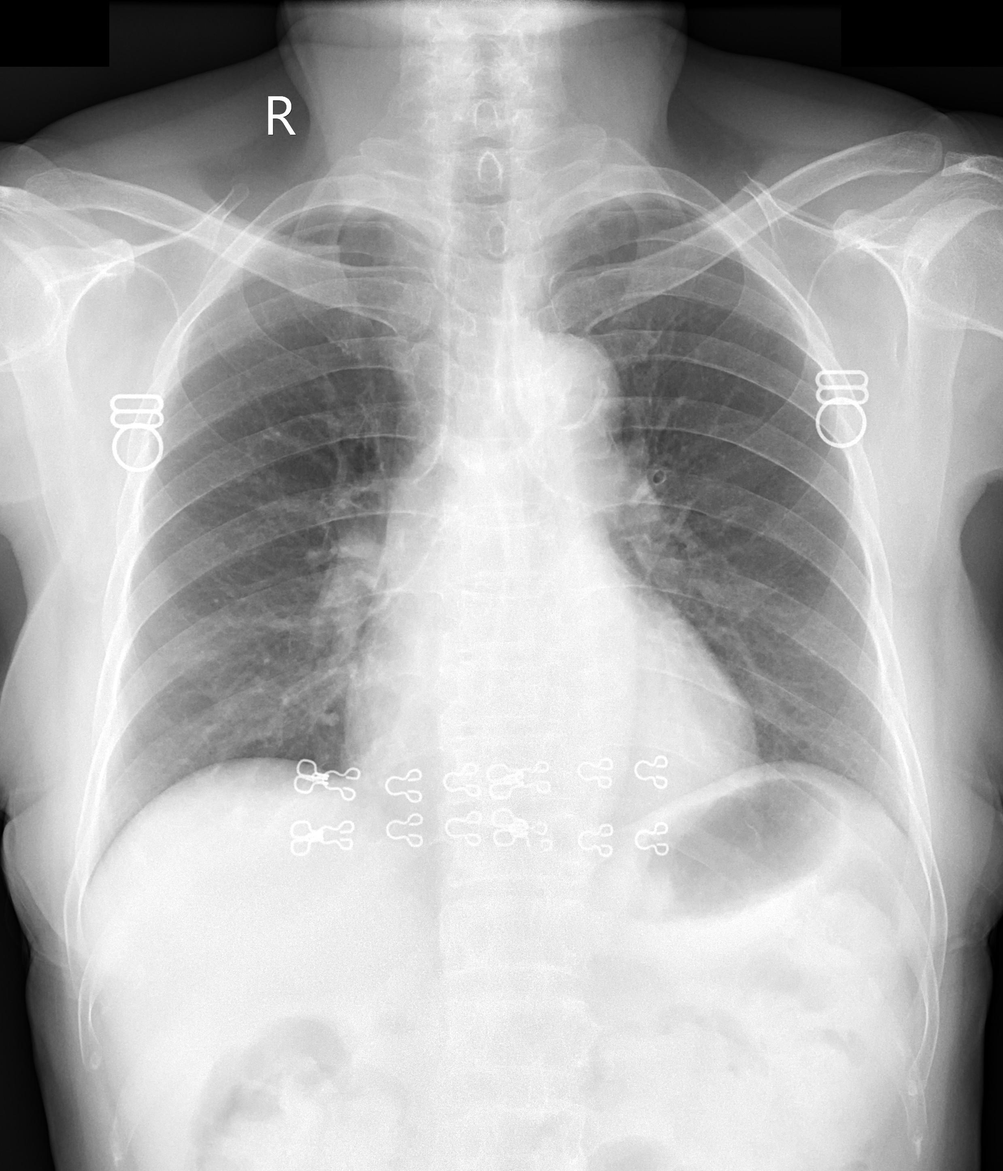Aortic enlargement: (493, 331, 627, 454)
Cardiomegaly: (334, 652, 779, 802)
